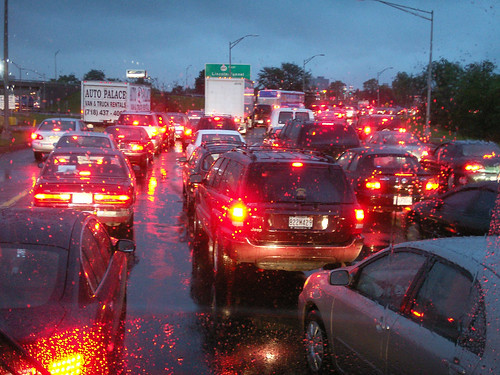car: (187, 141, 379, 268), (35, 144, 135, 221), (339, 144, 437, 216), (428, 134, 500, 192), (262, 106, 320, 157), (33, 112, 82, 158)
light pole: (219, 21, 261, 73), (299, 43, 327, 97)
sky: (2, 1, 500, 73)
vegetation: (394, 61, 500, 139)
